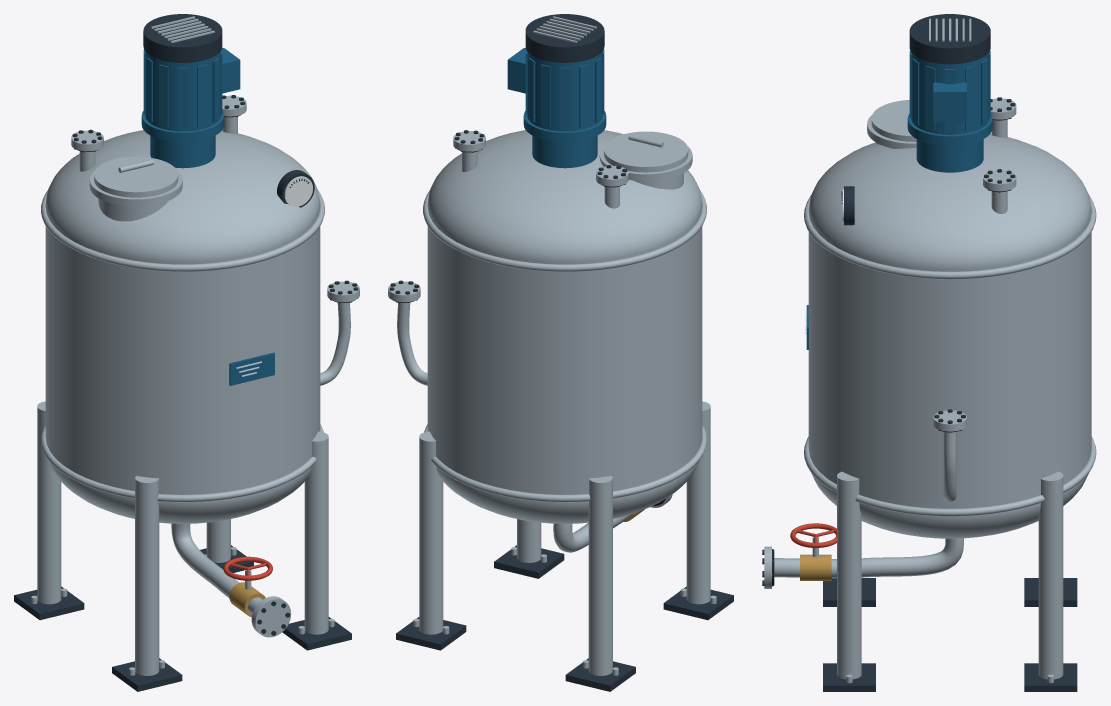
The model's file is 反应釜.0a4dc2ba2f25.glb.
3 renders of one model, left to right at view 1: azimuth 30°, elevation 25°; view 2: azimuth 150°, elevation 25°; view 3: azimuth 270°, elevation 25°, orthographic. The views are drawn at different scales.
Parts seen in each view (by area): view 1: reactor_shell, reactor_motor, reactor_leg_2, reactor_head, reactor_leg_3, reactor_leg_0, reactor, reactor_valve_107, reactor_leg_1, reactor_flange_114, reactor_gauge_137, reactor_head_flange_62 (+2 smaller); view 2: reactor_shell, reactor_motor, reactor_leg_0, reactor_leg_1, reactor_head, reactor_leg_2, reactor_leg_3, reactor, reactor_head_flange_62, reactor_flange_126, reactor_head_flange_76, reactor_head_flange_88; view 3: reactor_shell, reactor_motor, reactor_leg_1, reactor_leg_3, reactor, reactor_head, reactor_valve_107, reactor_leg_0, reactor_leg_2, reactor_head_flange_88, reactor_flange_126, reactor_head_flange_76 (+2 smaller).
Boxes of the visible parts, x1,y1,x2,y2 form: reactor_shell: (41,130,324,523); reactor_motor: (141,14,240,142); reactor_leg_2: (112,476,182,691); reactor_head: (79,117,237,221); reactor_leg_3: (282,431,351,650); reactor_leg_0: (14,401,84,620); reactor: (171,302,350,613); reactor_valve_107: (223,556,272,617); reactor_leg_1: (200,519,253,572); reactor_flange_114: (251,596,291,637); reactor_gauge_137: (277,170,314,207); reactor_head_flange_62: (89,171,182,206); reactor_shell: (423,130,706,523); reactor_motor: (507,14,606,142); reactor_leg_0: (565,476,635,691); reactor_leg_1: (396,431,466,650); reactor_head: (462,131,688,208); reactor_leg_2: (663,401,733,620); reactor_leg_3: (494,519,564,578); reactor: (397,302,629,552); reactor_head_flange_62: (599,146,692,181); reactor_flange_126: (388,280,420,302); reactor_head_flange_76: (596,165,628,187); reactor_head_flange_88: (453,130,485,152); reactor_shell: (804,133,1096,538); reactor_motor: (907,14,992,145); reactor_leg_1: (1024,471,1077,691); reactor_leg_3: (823,471,875,691); reactor: (774,431,963,578); reactor_head: (871,100,1007,213); reactor_valve_107: (790,523,836,580); reactor_leg_0: (1024,578,1077,606); reactor_leg_2: (823,578,875,606); reactor_head_flange_88: (983,169,1016,192); reactor_flange_126: (933,409,966,432); reactor_head_flange_76: (990,97,1016,120).
Size of the model in its own units: 2 by 3.8 by 1.89.
